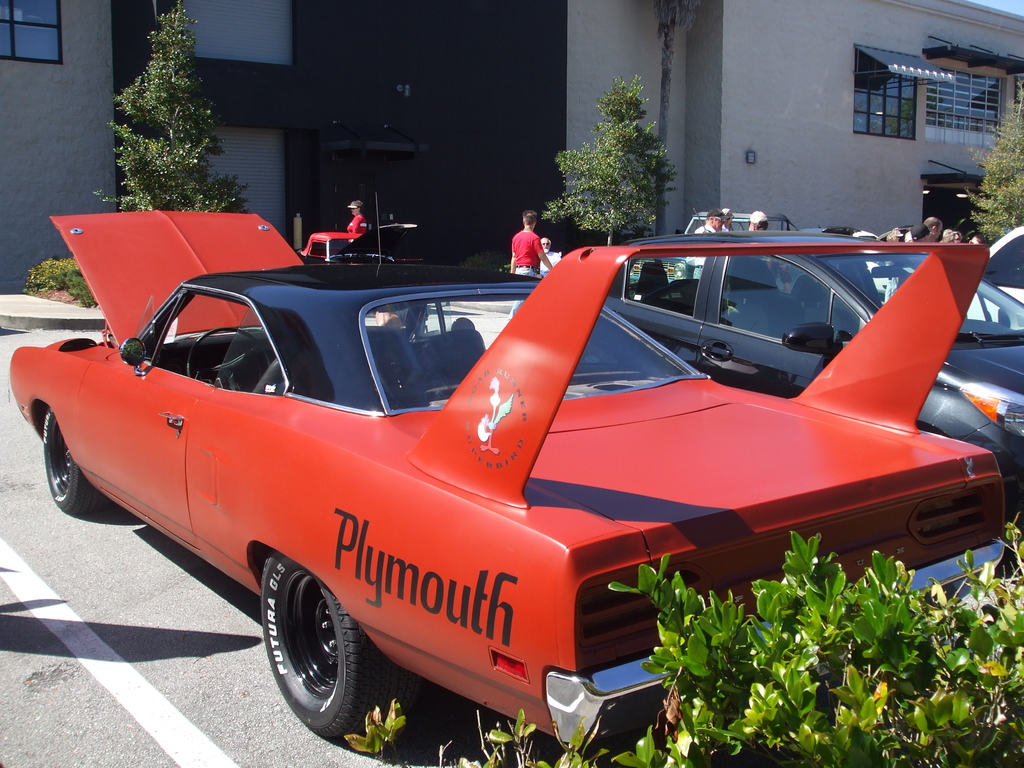cars: (7, 209, 1004, 745), (506, 229, 1023, 576), (298, 219, 427, 314), (797, 227, 886, 296), (963, 224, 1023, 323)
